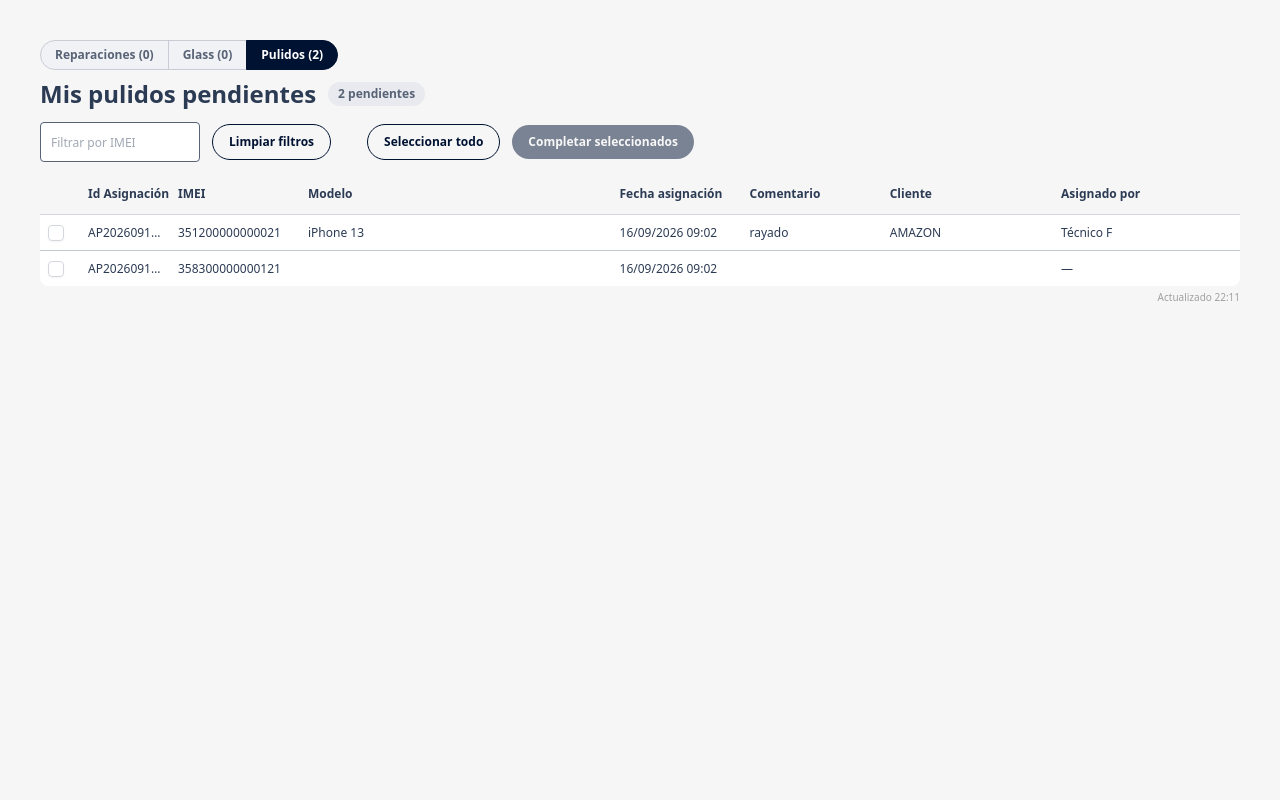
Scenario: PulidosPendientesPage (ficha docs/paridad/pendientes.md, pestaña Pulidos) › seleccionar todo, completar en lote y limpiar la selección
Check: the text "AP20260916_1" is shown, box x1=80 y1=214 x2=170 y2=250
Click the button "Seleccionar todo": (434, 142) x1=367 y1=124 x2=500 y2=160
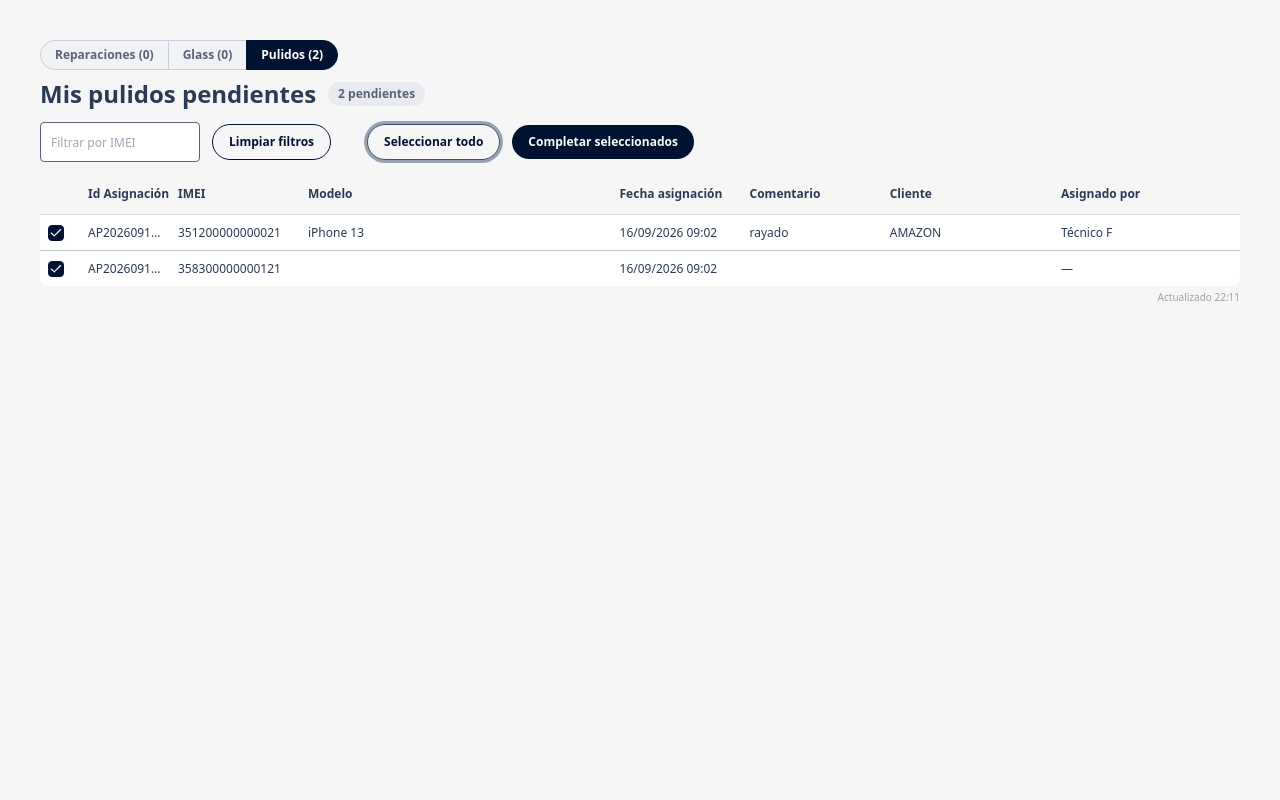
Check: the button "Completar seleccionados" is enabled, box x1=512 y1=125 x2=694 y2=159
Click the button "Seleccionar todo": (434, 142) x1=367 y1=124 x2=500 y2=160
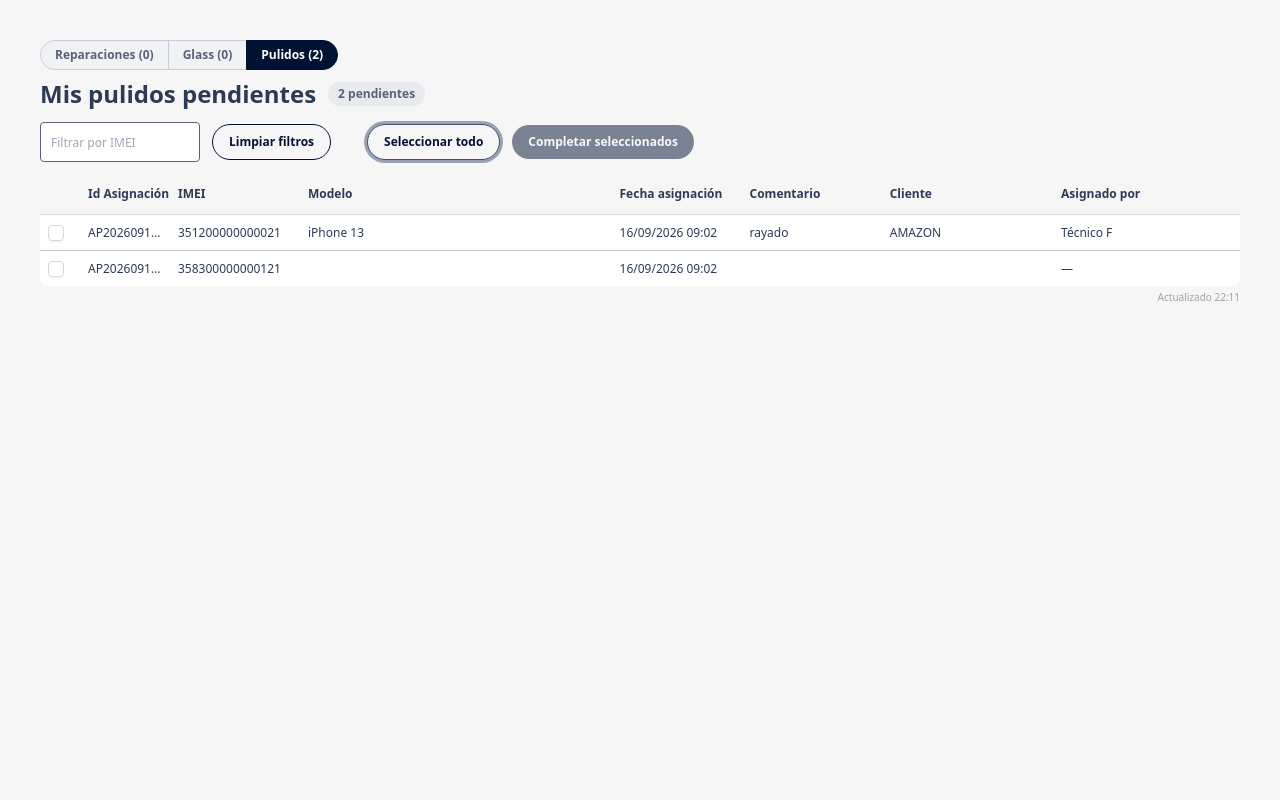
Check: the button "Completar seleccionados" is disabled, box x1=512 y1=125 x2=694 y2=159
Click the checkbox named "Seleccionar AP20260916_2": (56, 269) x1=48 y1=261 x2=64 y2=277
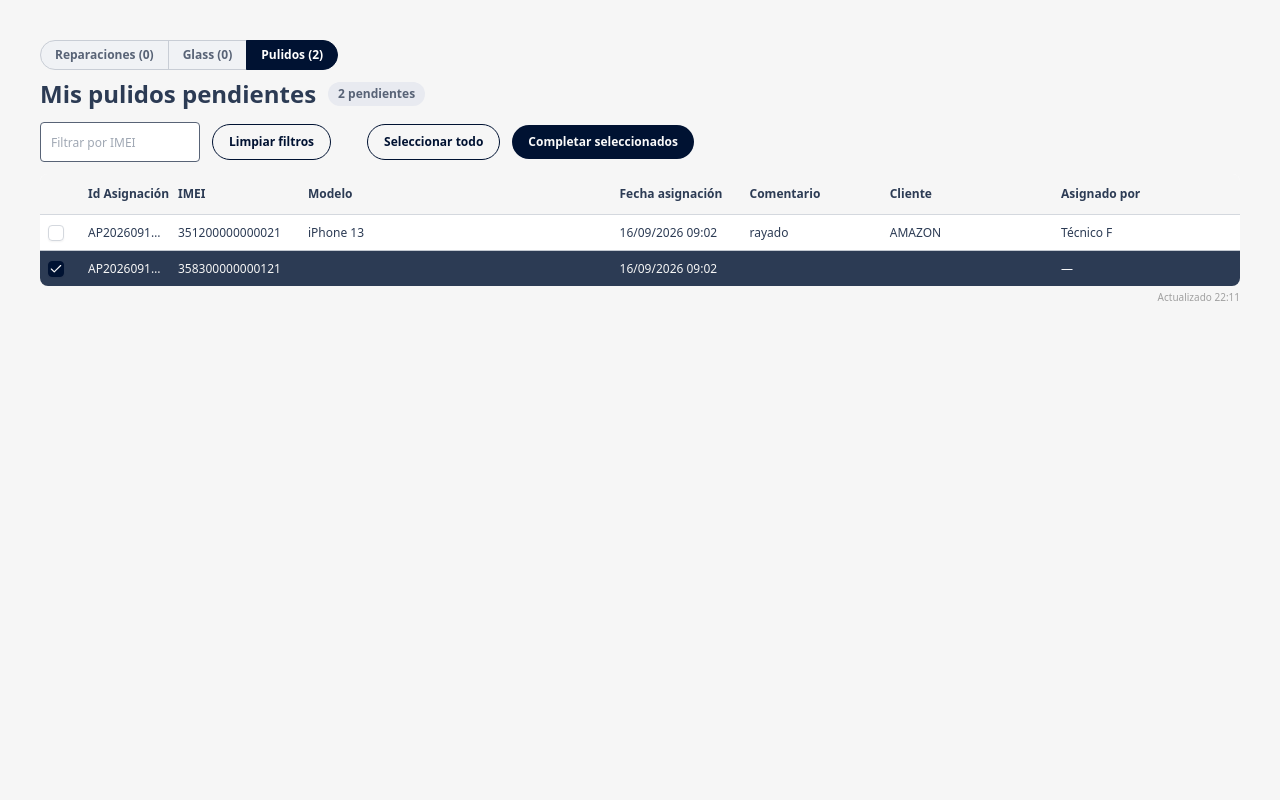
Click the button "Completar seleccionados": (603, 142) x1=512 y1=125 x2=694 y2=159
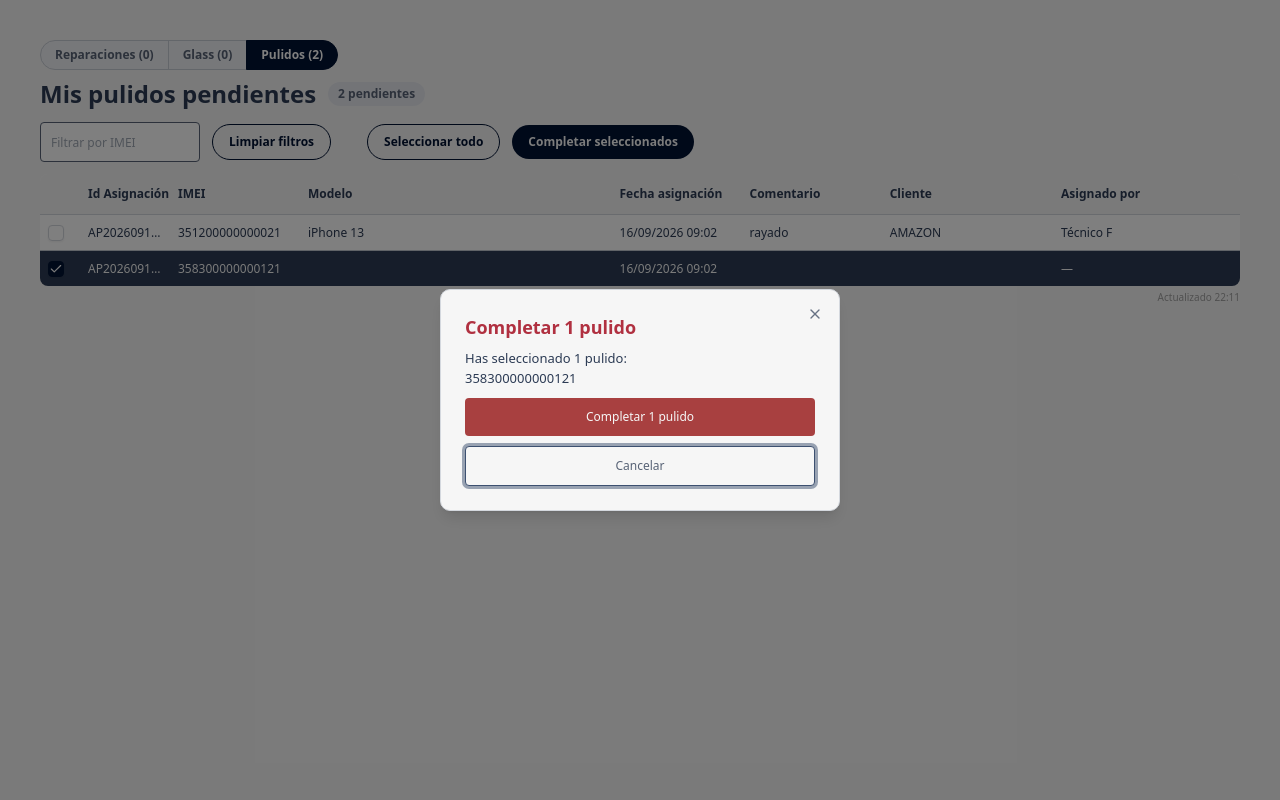
Click the button "Completar 1 pulido": (640, 417) x1=465 y1=398 x2=815 y2=436
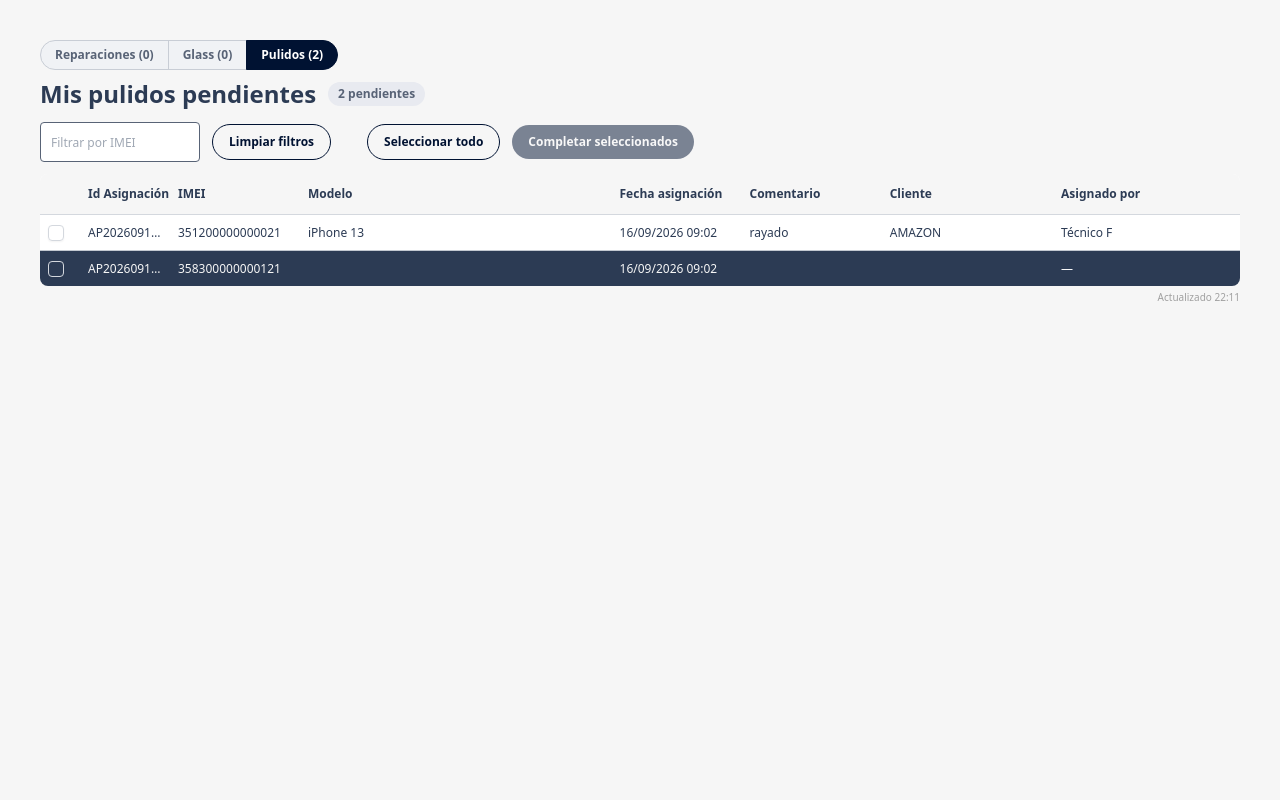
Check: the button "Completar seleccionados" is disabled, box x1=512 y1=125 x2=694 y2=159
